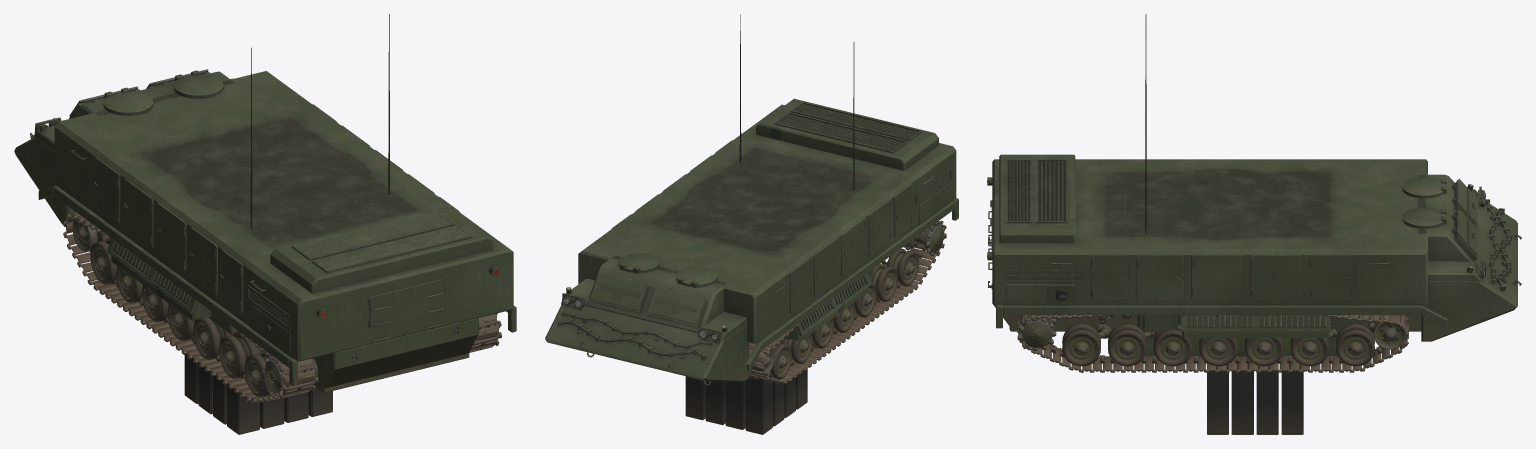
File: torm2.glb
The picture shows the model from 3 angles, left to right: view 1: azimuth 30°, elevation 25°; view 2: azimuth 150°, elevation 25°; view 3: azimuth 270°, elevation 25°; orthographic projection. The views are drawn at different scales.
Visible parts, largest first — view 1: body|TM_H, body|TM_R, turret|TM_T; view 2: body|TM_H, body|TM_R, turret|TM_T, sh1|TM_H, sh0|TM_H; view 3: body|TM_H, body|TM_R, turret|TM_T, sh1|TM_H, sh0|TM_H.
Part boxes in pixels (left/top/right/bottom): body|TM_H: left=14, top=70, right=516, bottom=393; body|TM_R: left=63, top=213, right=501, bottom=402; turret|TM_T: left=107, top=14, right=390, bottom=434; body|TM_H: left=545, top=98, right=958, bottom=385; body|TM_R: left=749, top=220, right=946, bottom=384; turret|TM_T: left=685, top=14, right=873, bottom=434; sh1|TM_H: left=590, top=272, right=646, bottom=309; sh0|TM_H: left=648, top=286, right=704, bottom=323; body|TM_H: left=987, top=154, right=1521, bottom=341; body|TM_R: left=1017, top=315, right=1408, bottom=372; turret|TM_T: left=1137, top=14, right=1367, bottom=434; sh1|TM_H: left=1456, top=209, right=1477, bottom=255; sh0|TM_H: left=1456, top=179, right=1477, bottom=224.
Bounding box in the file's own units: 3.46 × 5.92 × 7.74.
28 materials, 24 textured.
